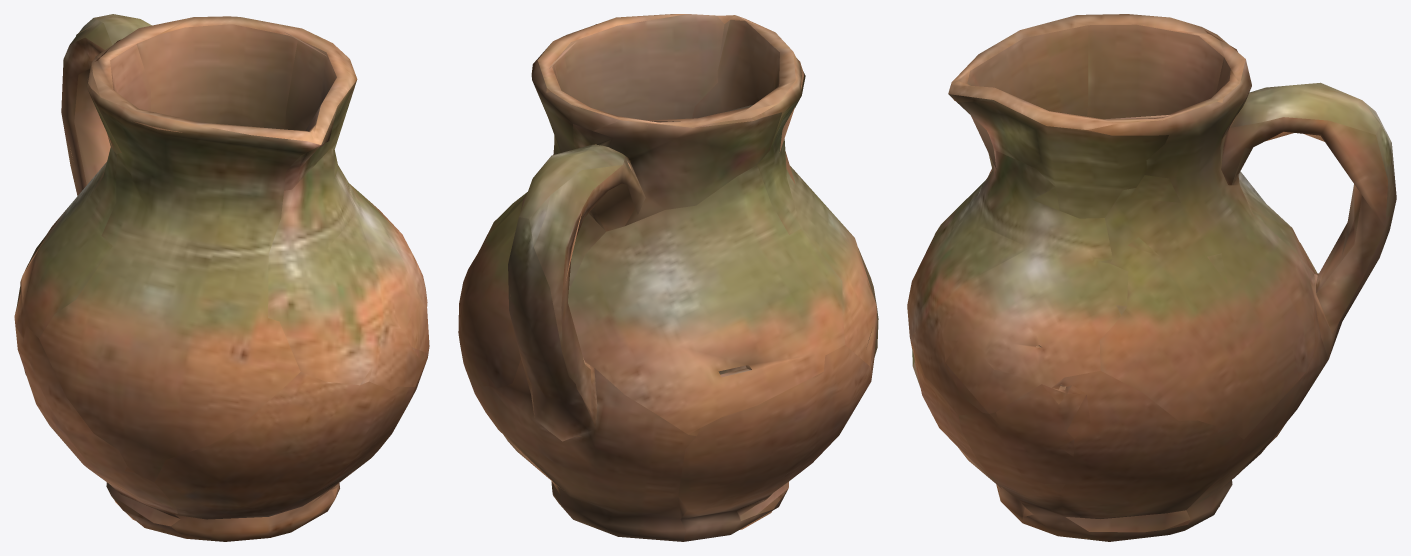
3 renders of one model, left to right at view 1: azimuth 30°, elevation 25°; view 2: azimuth 150°, elevation 25°; view 3: azimuth 270°, elevation 25°, orthographic.
Visible parts, largest first — view 1: geometry_0; view 2: geometry_0; view 3: geometry_0.
Part boxes in pixels (box(x1,y1,x2,y2)): geometry_0: box(14, 14, 429, 541); geometry_0: box(458, 14, 878, 541); geometry_0: box(907, 14, 1396, 541).
Size of the model in its own units: 0.2204 by 0.2491 by 0.258.
Materials: 1 (1 with a texture image).
